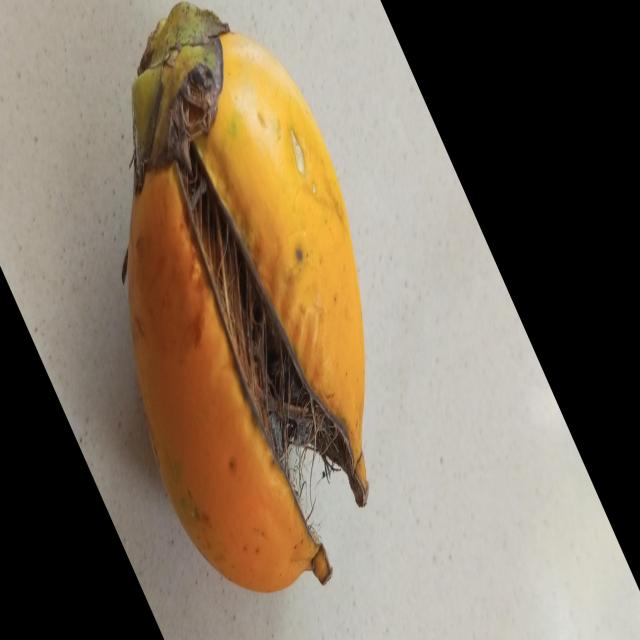damaged: (127, 6, 369, 594)
